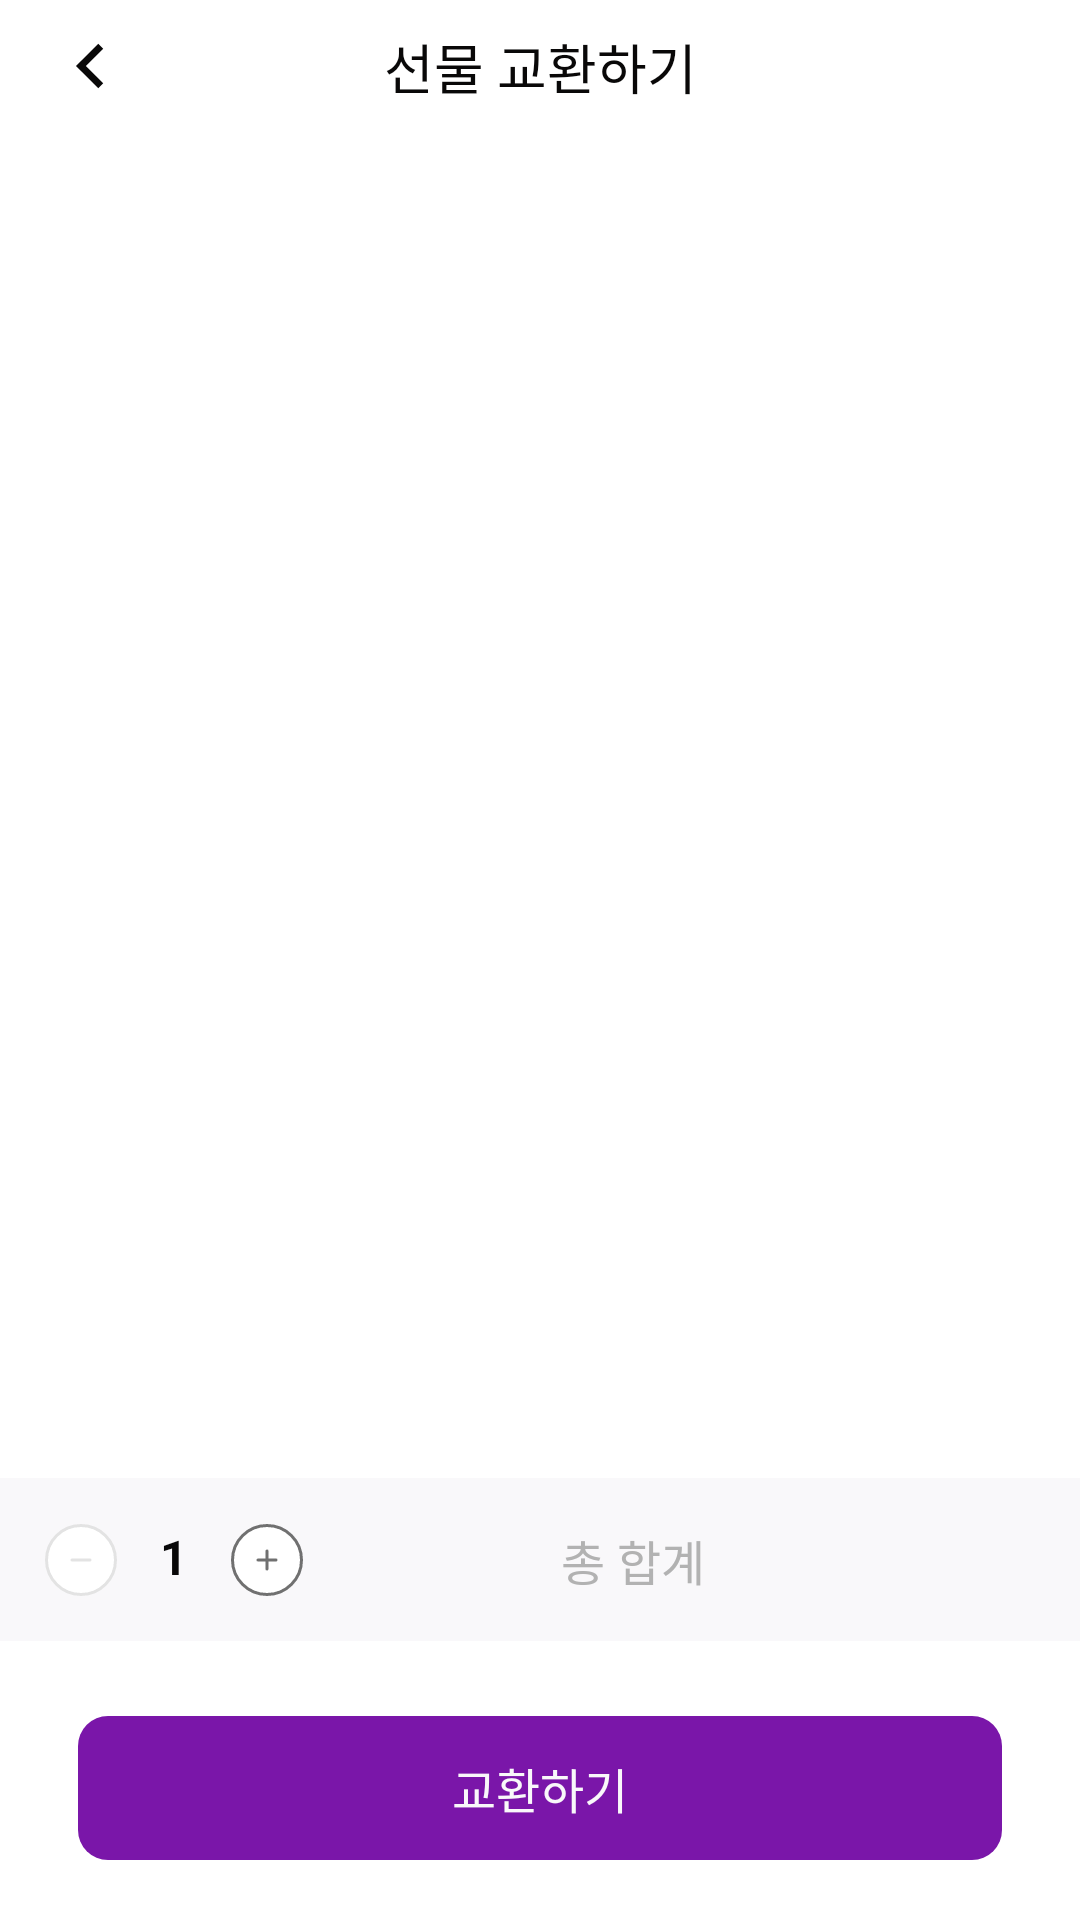

Where to tap for icons on this 1080*1920 app screen, as (x=x, y=y):
arrow: (x=89, y=66)
cart item plus on: (x=267, y=1560)
